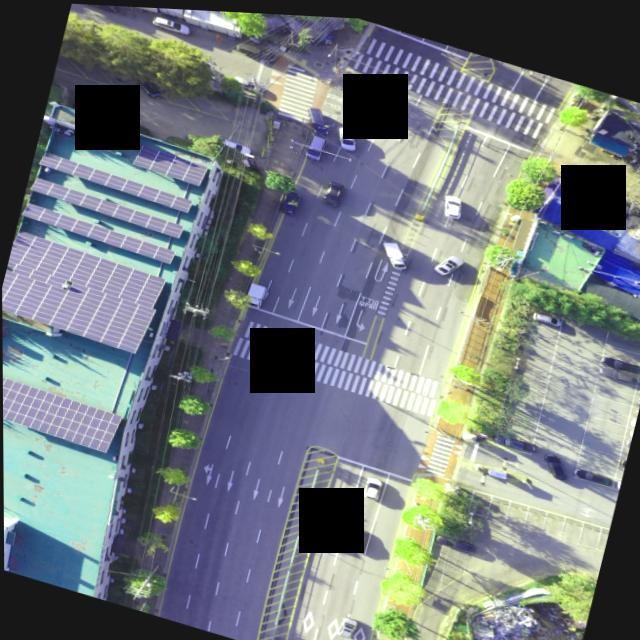car: (429, 528, 477, 551), (303, 101, 335, 134), (537, 445, 572, 475), (127, 71, 165, 98), (594, 358, 640, 379), (491, 426, 534, 448), (150, 12, 190, 35), (571, 460, 612, 482), (599, 347, 640, 369), (432, 247, 464, 274), (437, 188, 466, 217), (218, 133, 254, 156), (234, 38, 274, 58), (304, 127, 328, 159), (318, 176, 343, 206), (344, 520, 368, 548), (334, 121, 358, 147), (231, 71, 260, 89), (530, 304, 560, 321), (336, 611, 357, 635), (360, 473, 380, 497)
small_truck: (375, 232, 410, 266), (243, 276, 268, 305), (277, 185, 302, 213), (71, 3, 119, 11)
